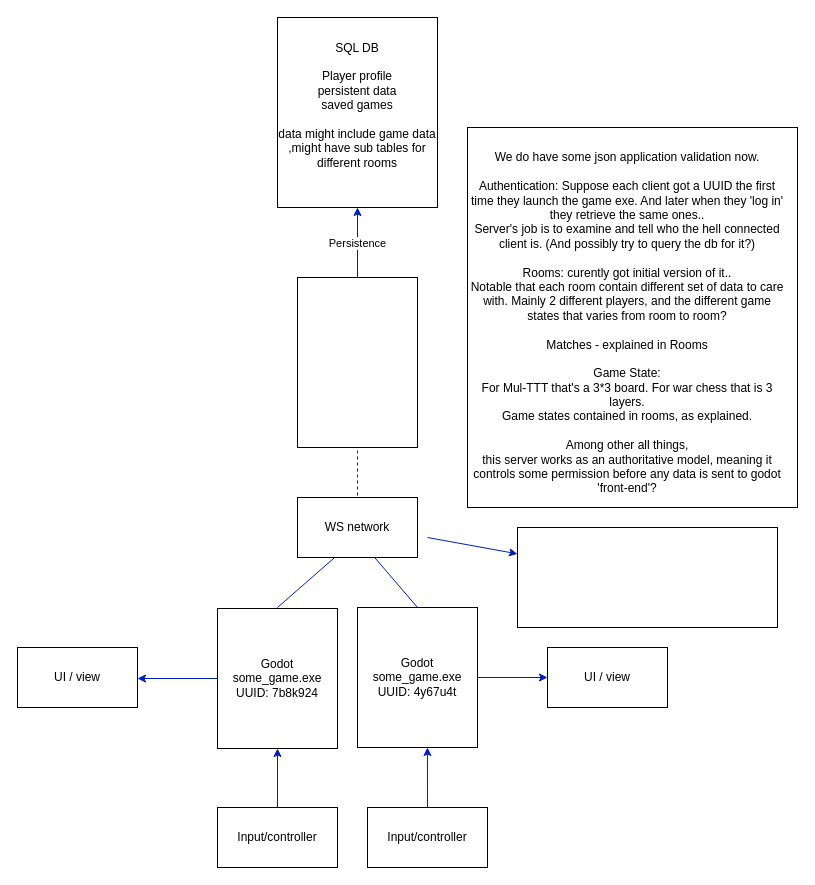
This 815x885 diagram has some shape labels left out. The shapes that lost their labels are listed below. From the top down, each one's centre as x and y in pixels, then its label:
the point at 357,362: Python WS server Authentication Rooms Matches Game State Validation
the point at 647,577: I compare the UUID.. I assign two clients in one room..
